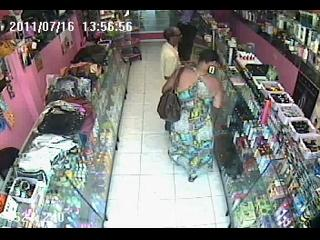Normal: (162, 49, 226, 182), (159, 27, 183, 125), (157, 65, 185, 123)
